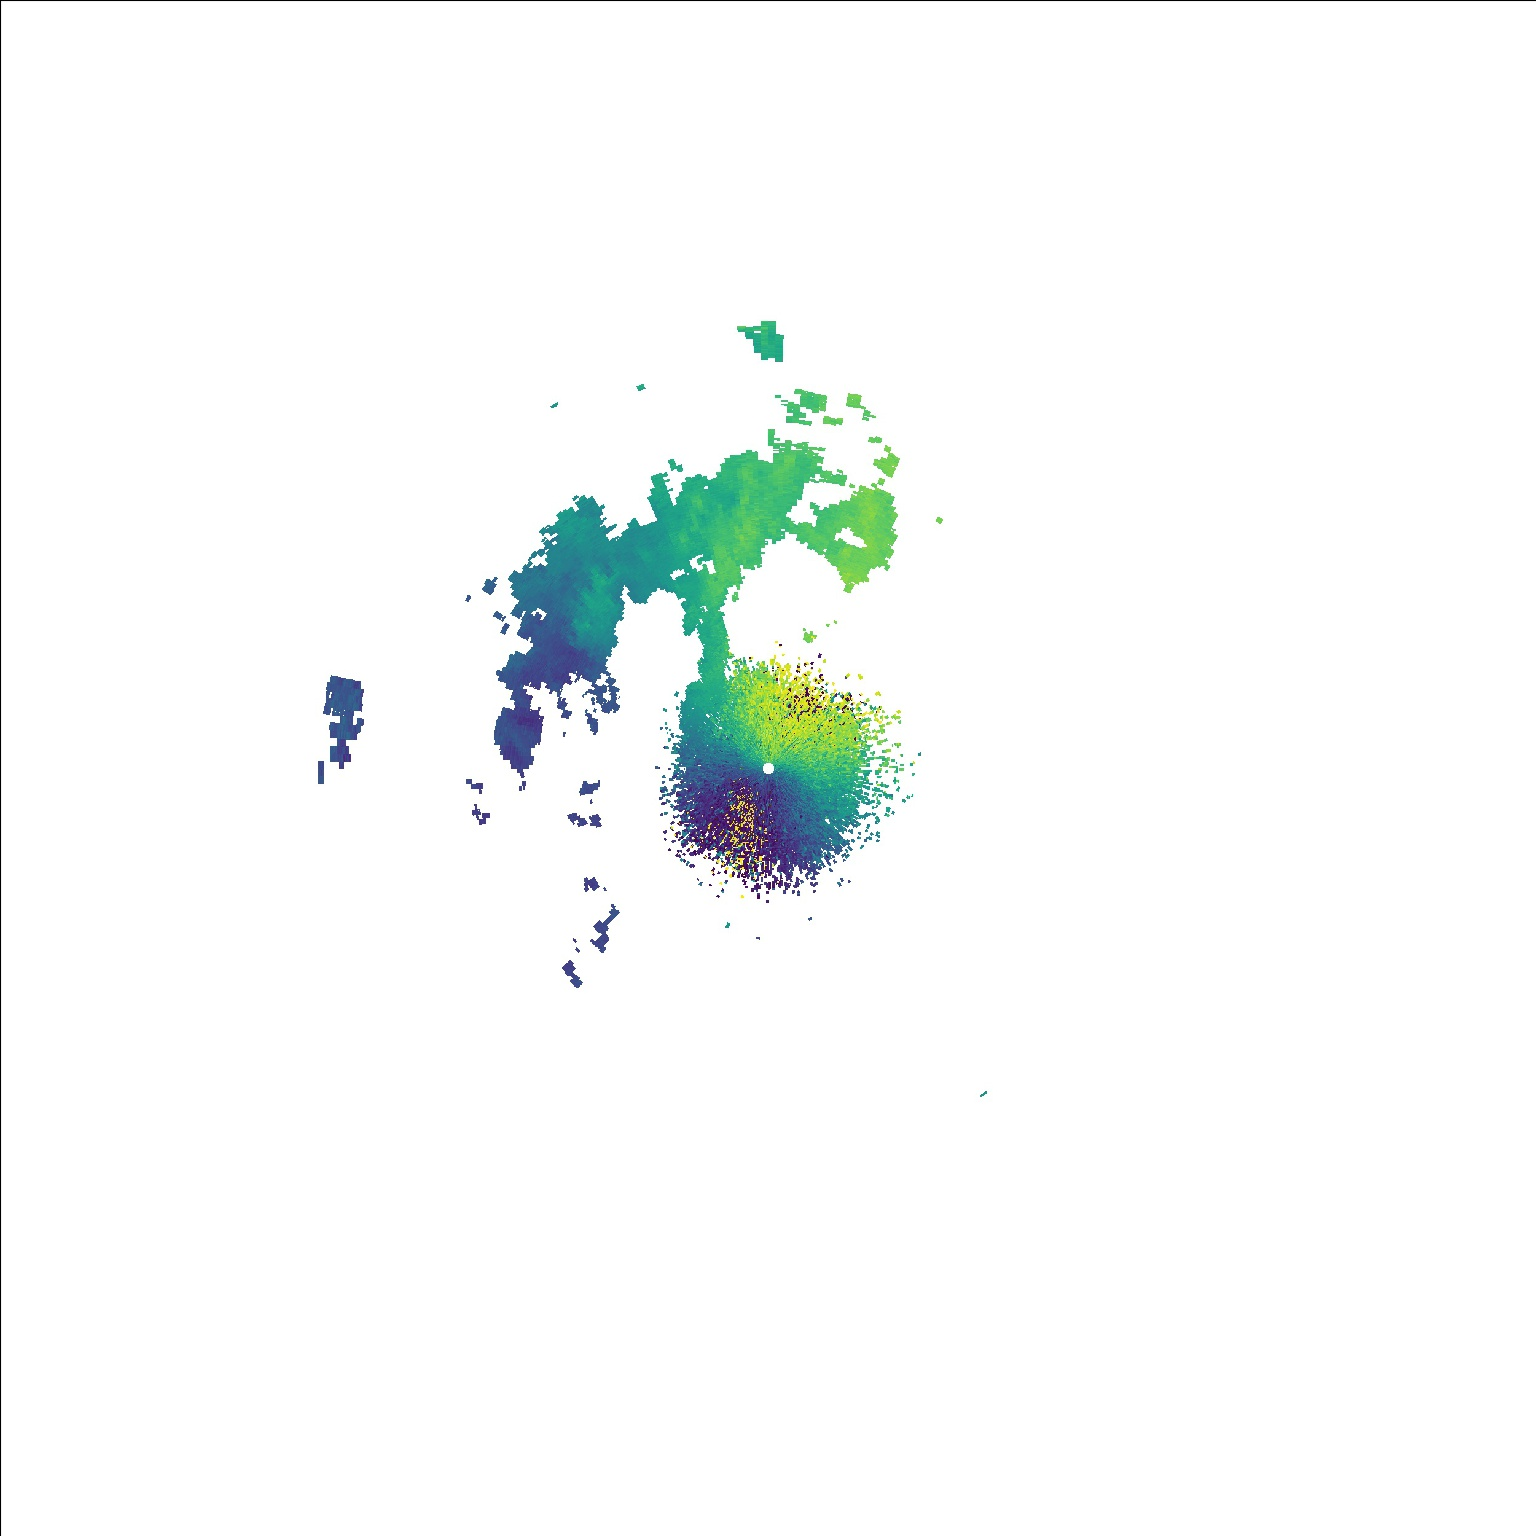fall: (978, 1089, 989, 1100)
